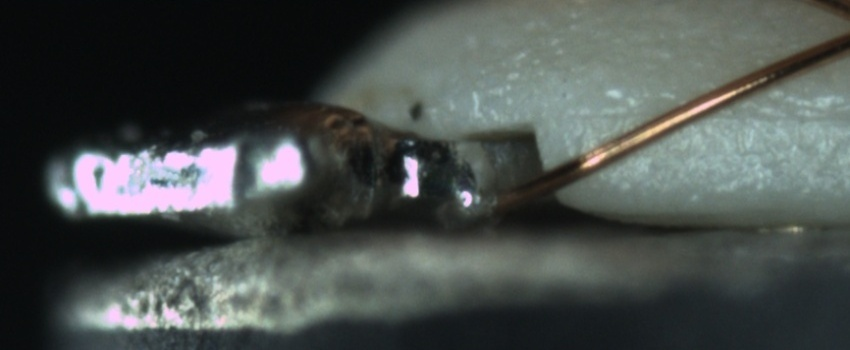DL: (568, 83, 849, 147)
